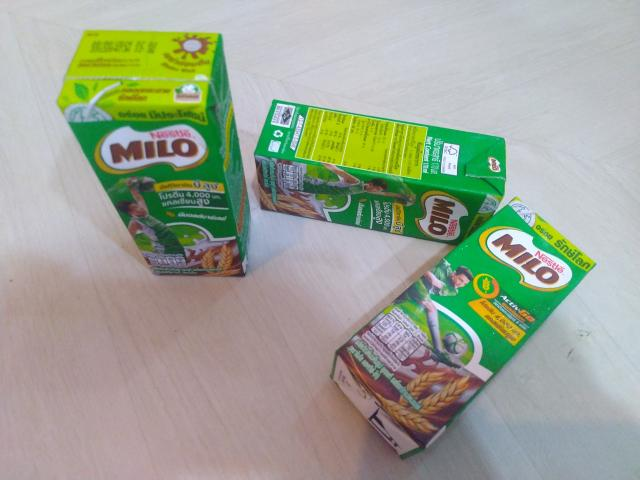drink_box: (331, 200, 595, 459), (58, 30, 250, 276), (255, 100, 505, 244)
